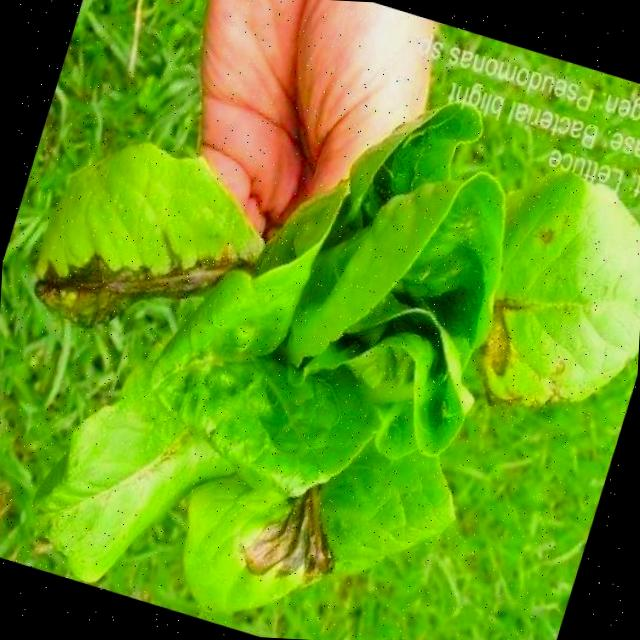Septoria_Blight: (19, 118, 294, 378), (187, 405, 418, 636)
